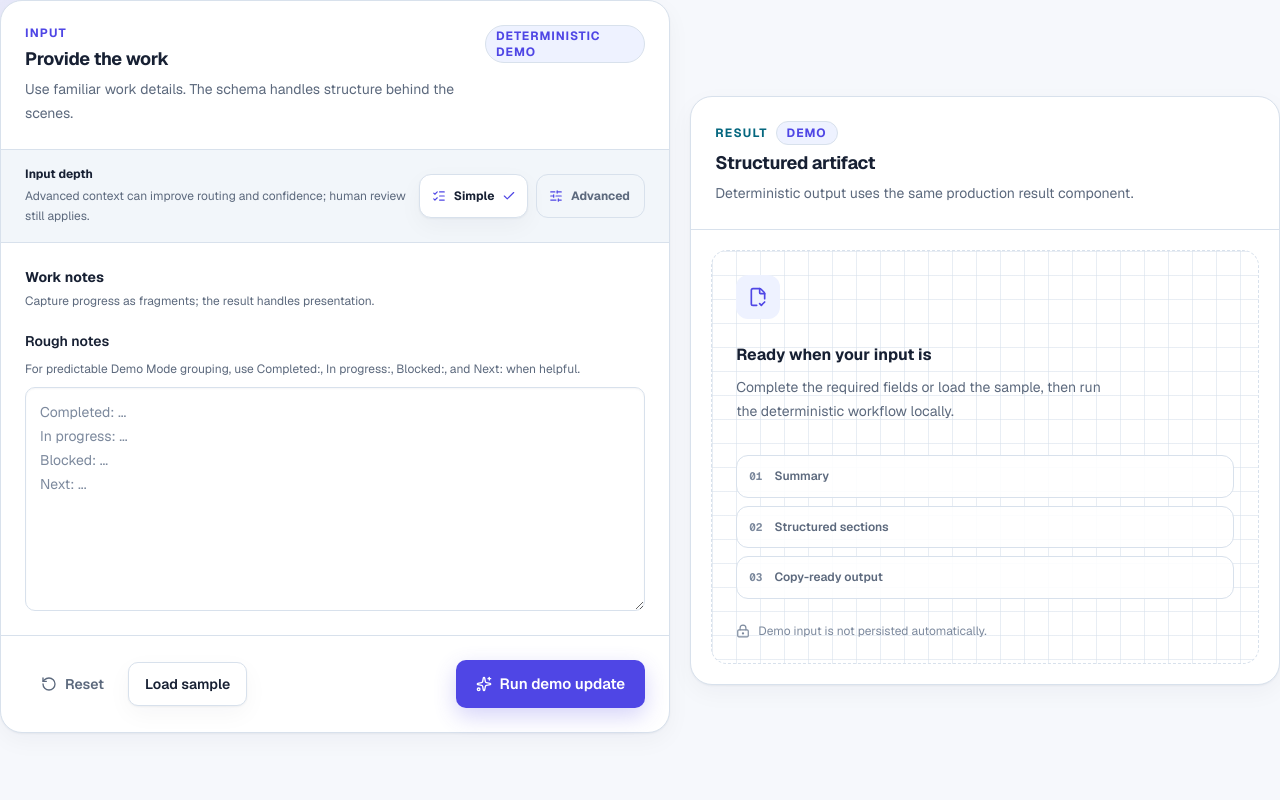
Test case: Demo Mode workflow runner › copies a generated result
This screenshot has width=1280, height=800.
Click the button "Load sample" at (188, 684), box [128,662,247,706]
(page scrolled)
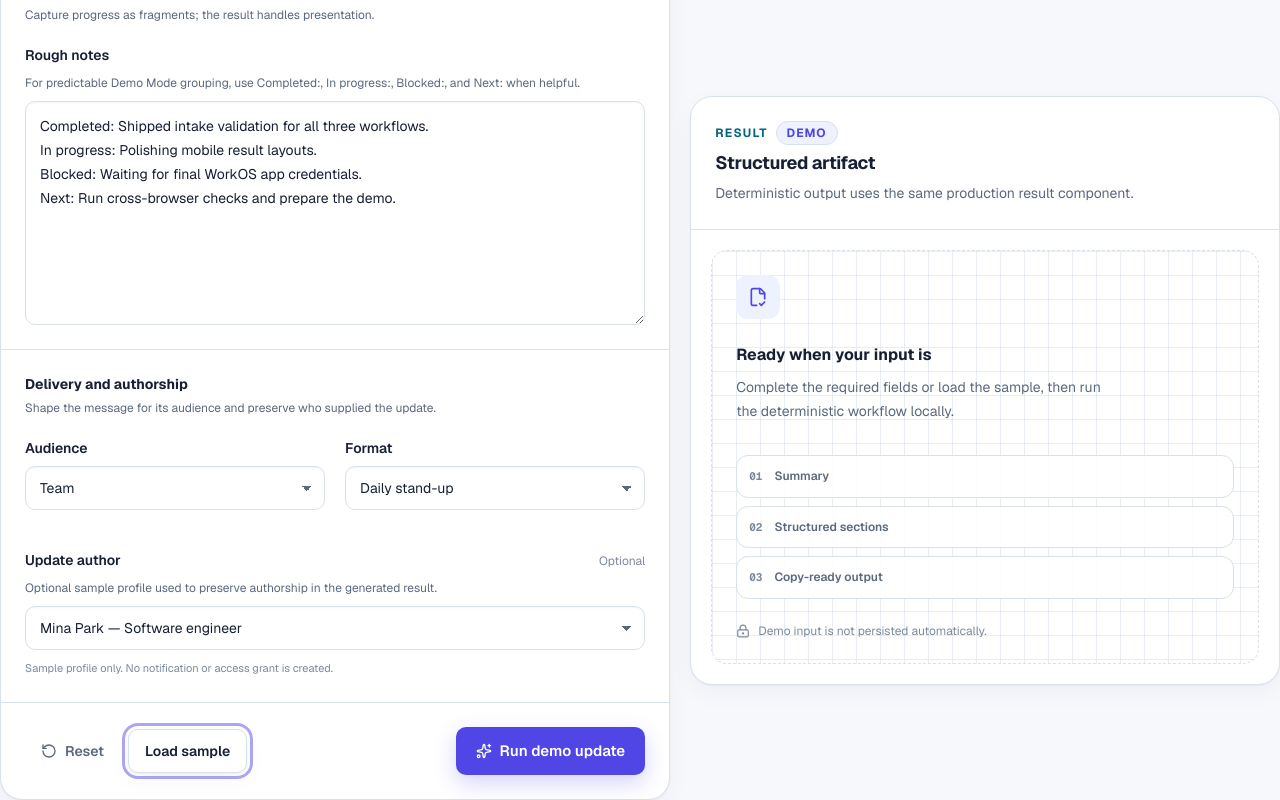
Click the button "Run demo update" at (550, 751), box [456,727,645,775]
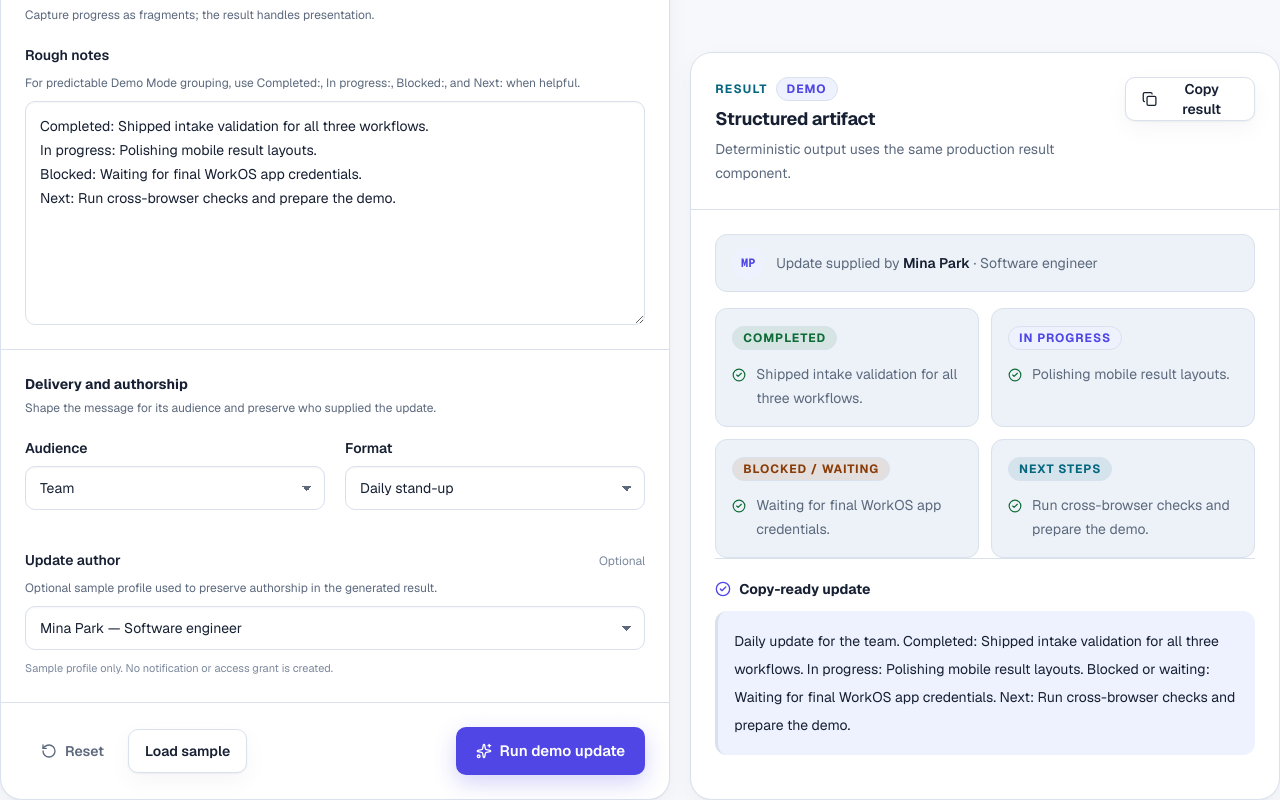
Click the button "Copy result" at (1190, 99), box [1125,77,1255,121]
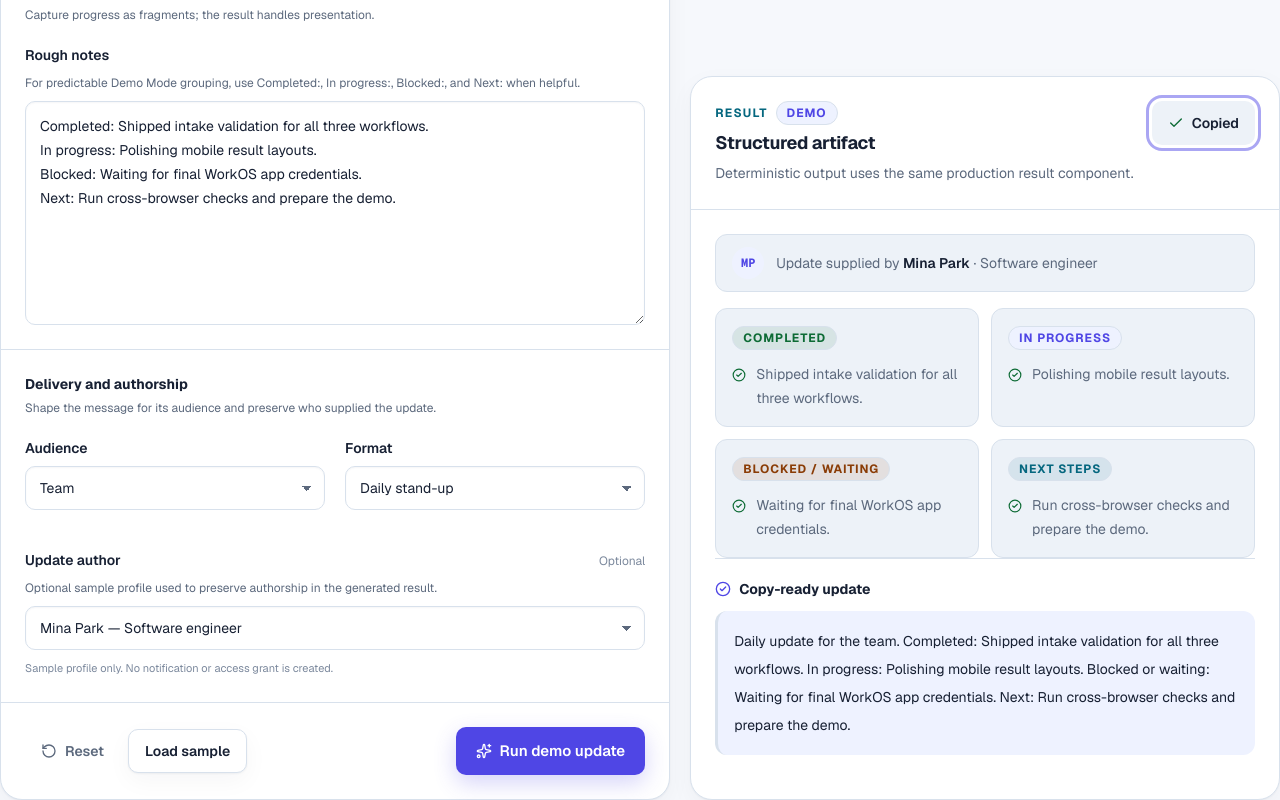
Expected: the button "Copied" is shown, [1152,101,1255,145]
